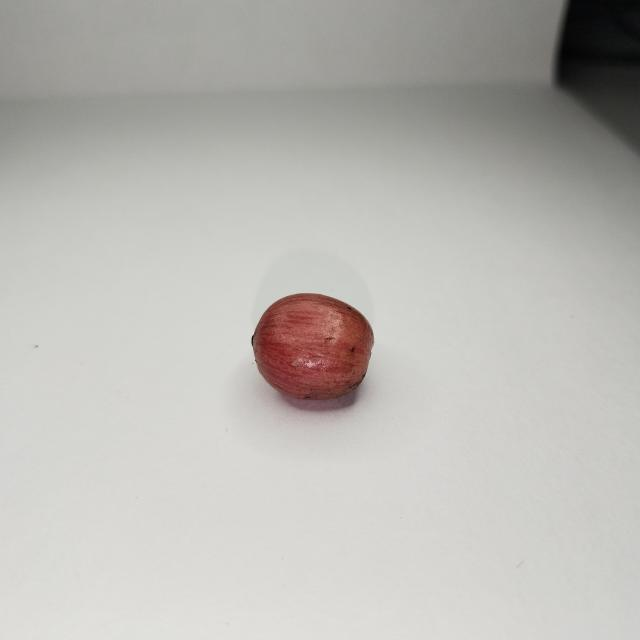Sano: (252, 293, 373, 403)
